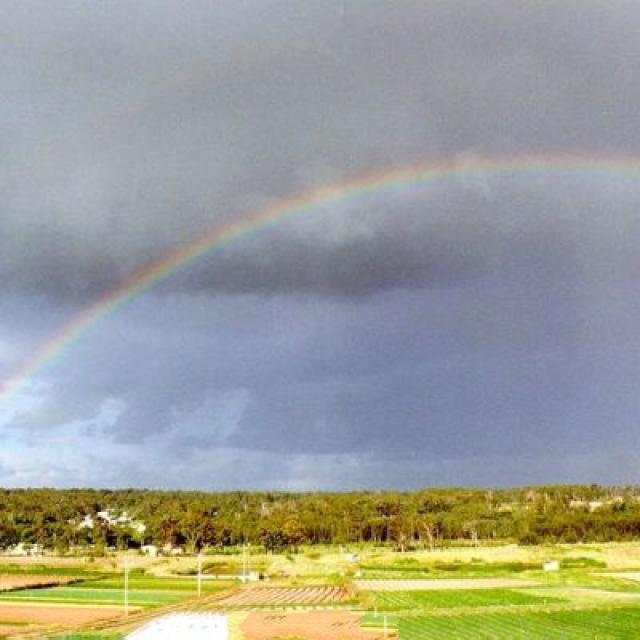Ns: (1, 50, 640, 446)
